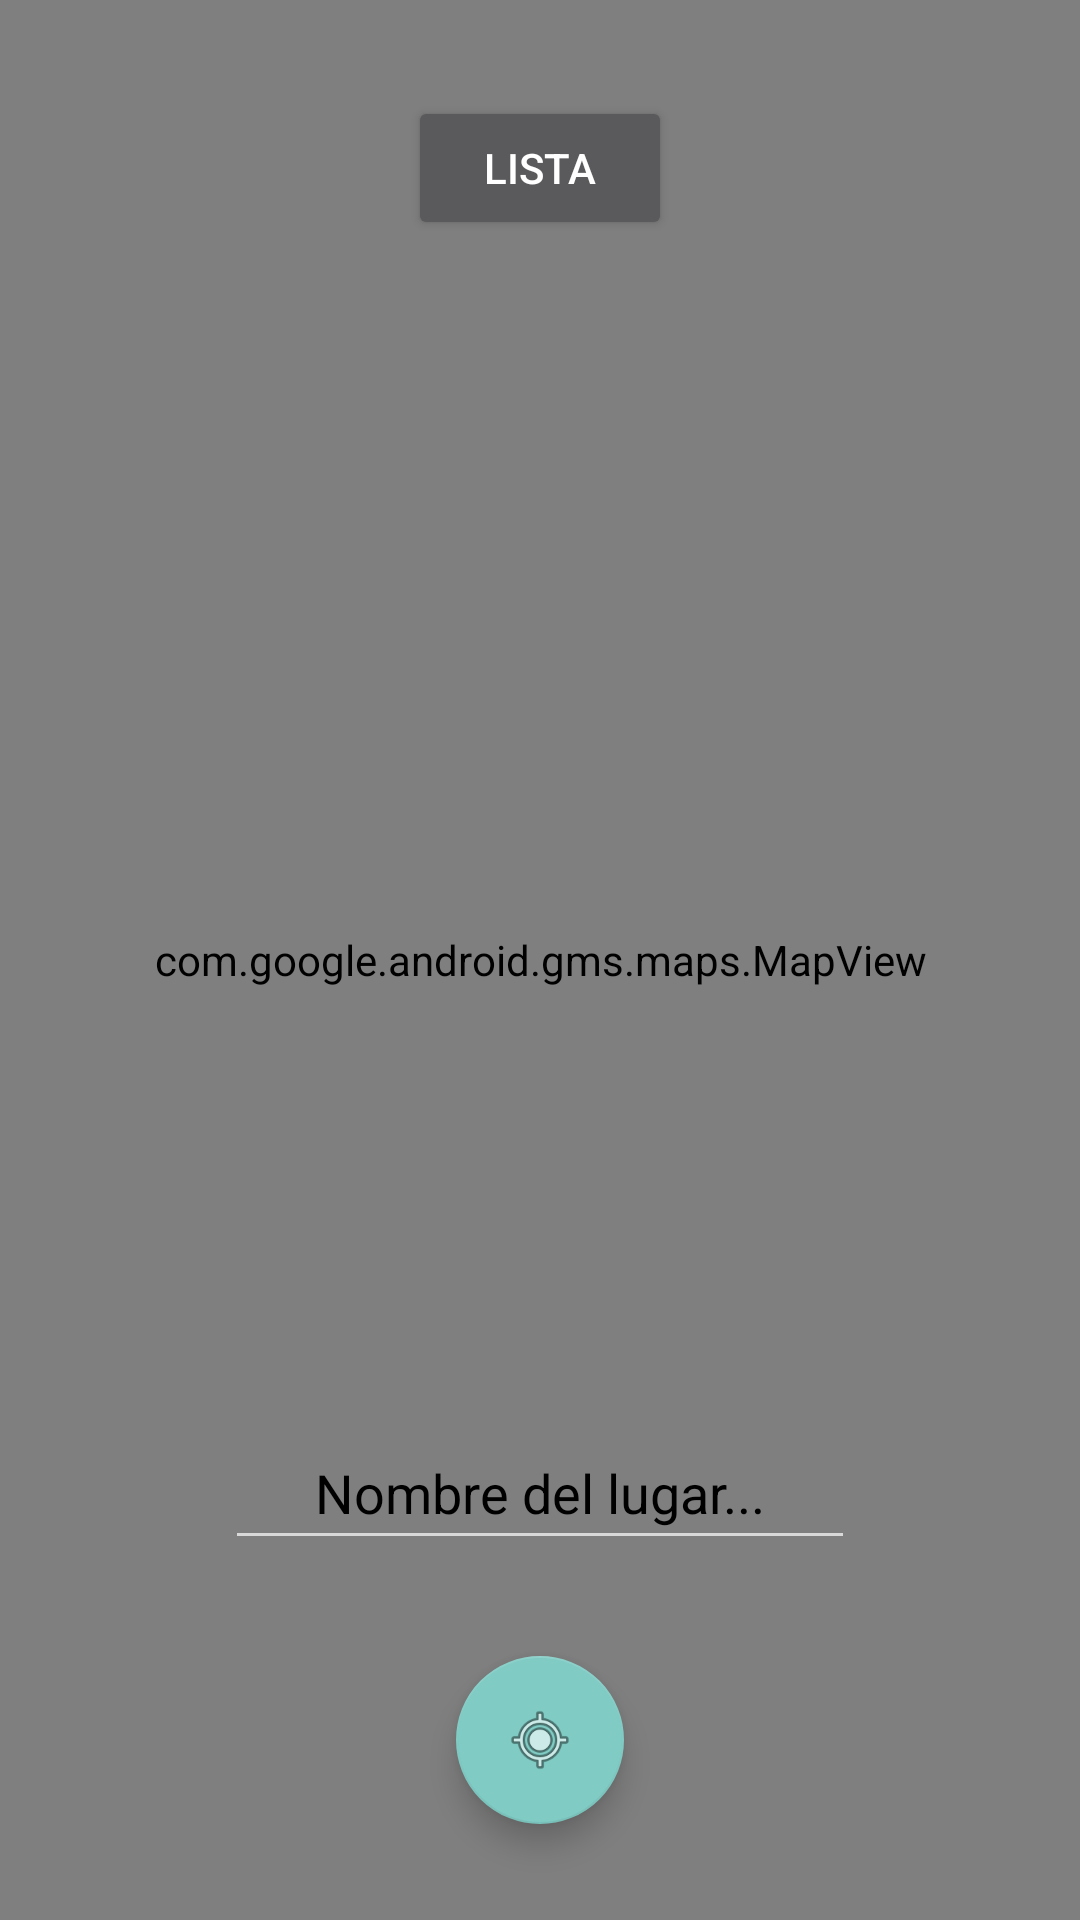

Named icons in this screenshot (1080 x 1920) and their bounding boxes, (x1, y1, x2, y2):
Descripición de, boton flotante: (456, 1656, 624, 1824)
